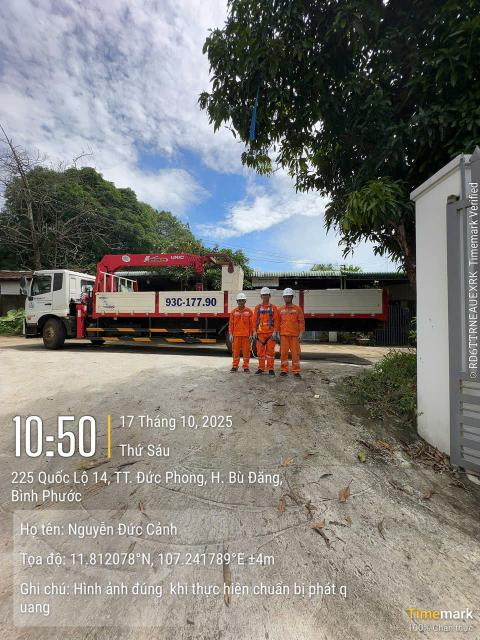gloves: (275, 330, 283, 342), (252, 330, 259, 340), (271, 330, 277, 340), (298, 332, 303, 344), (228, 334, 234, 342), (249, 335, 253, 343)
helmet: (234, 291, 249, 301), (259, 286, 271, 296), (281, 288, 296, 296)
shoes: (291, 371, 302, 380), (267, 368, 277, 377), (278, 370, 288, 378), (253, 368, 264, 375), (242, 366, 251, 374), (230, 366, 239, 372)
